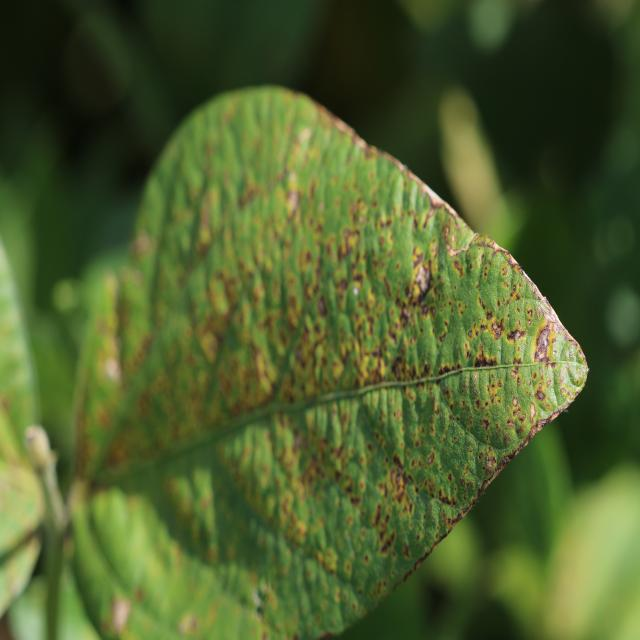Bacterial_Blight: (471, 372, 585, 495), (291, 262, 379, 393), (230, 144, 310, 231), (474, 428, 536, 499), (531, 311, 585, 391), (392, 529, 453, 593), (395, 256, 442, 336), (527, 309, 572, 389), (486, 243, 546, 298), (526, 384, 577, 440), (421, 194, 466, 249), (443, 479, 489, 531), (390, 339, 438, 384), (319, 108, 367, 149), (530, 280, 561, 332), (386, 465, 413, 512), (471, 333, 505, 369), (109, 596, 130, 633), (251, 343, 269, 383), (534, 323, 552, 362), (413, 260, 431, 296), (411, 246, 427, 277), (437, 359, 464, 377), (391, 355, 407, 380), (391, 469, 406, 492), (490, 319, 504, 341), (506, 327, 525, 343), (392, 453, 406, 473), (401, 304, 413, 324), (485, 454, 496, 470), (529, 402, 537, 422), (535, 389, 546, 401)
Soybean: (71, 87, 588, 640)
